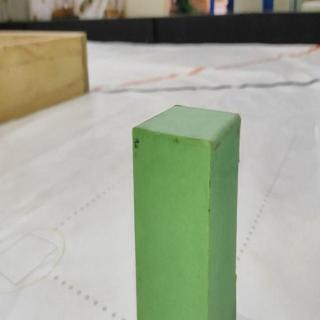greenbox: (129, 103, 241, 320)
